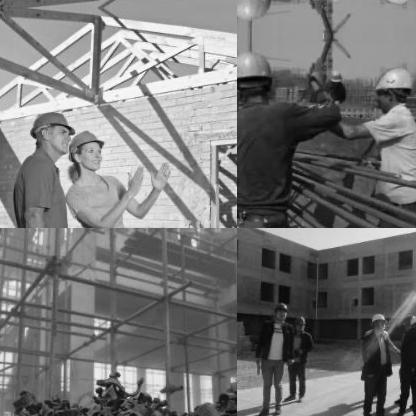Helmet: (26, 104, 76, 158), (237, 47, 277, 107), (64, 124, 107, 172), (372, 64, 412, 112), (237, 0, 277, 21), (367, 310, 387, 332), (271, 300, 289, 322), (325, 63, 343, 83), (292, 312, 306, 332), (325, 0, 344, 6), (408, 314, 415, 330)
